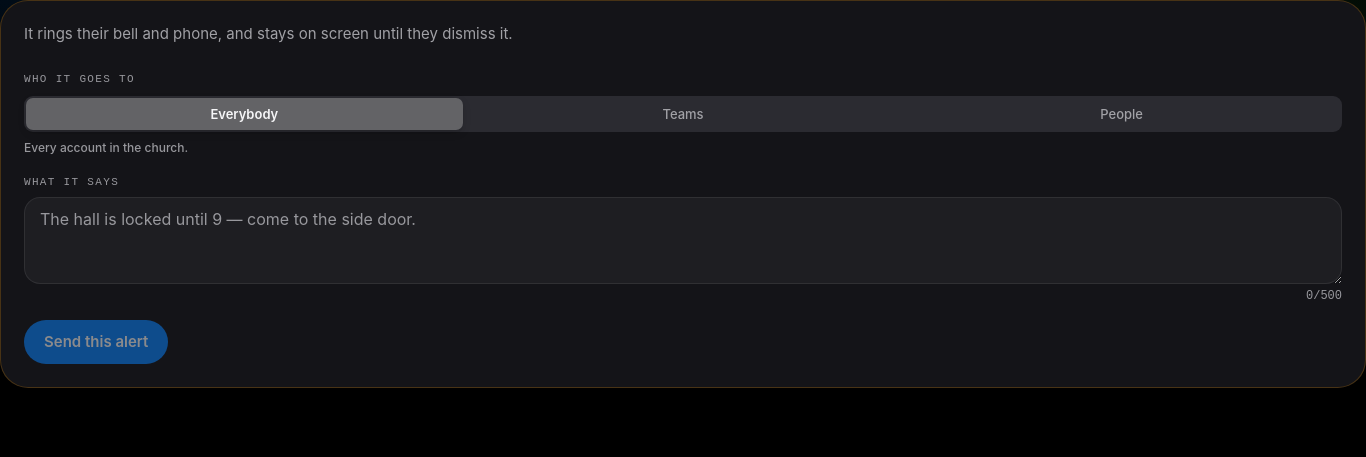
Scenario: SendAlertCard › asks before it interrupts anybody
Type "The hall is locked until 9" into the text box labelled "What it says" at (683, 240), box [24,197,1342,284]
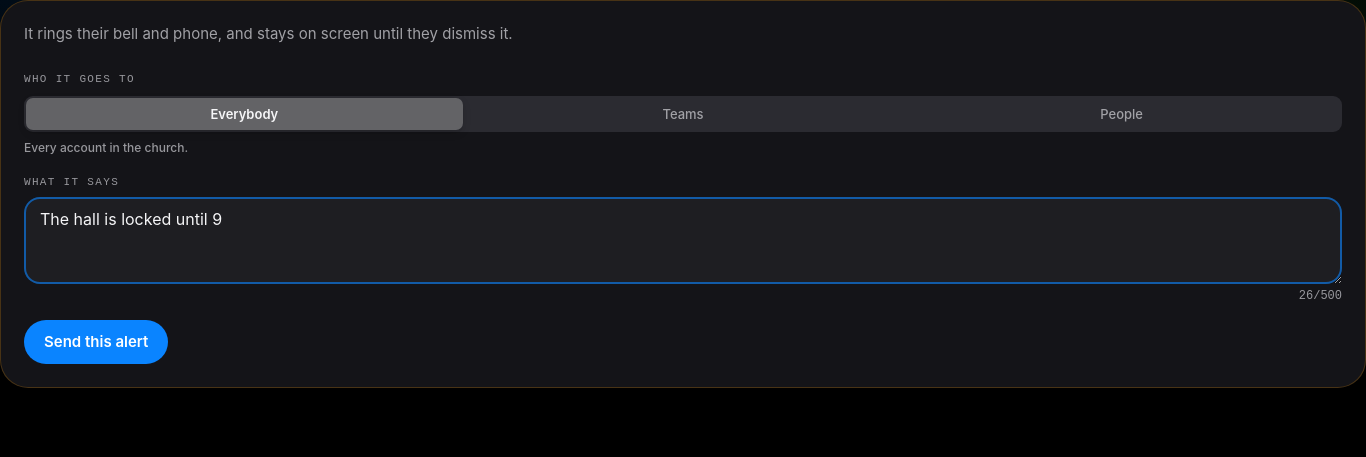
Click the button "Send this alert" at (96, 342), box [24,320,168,364]
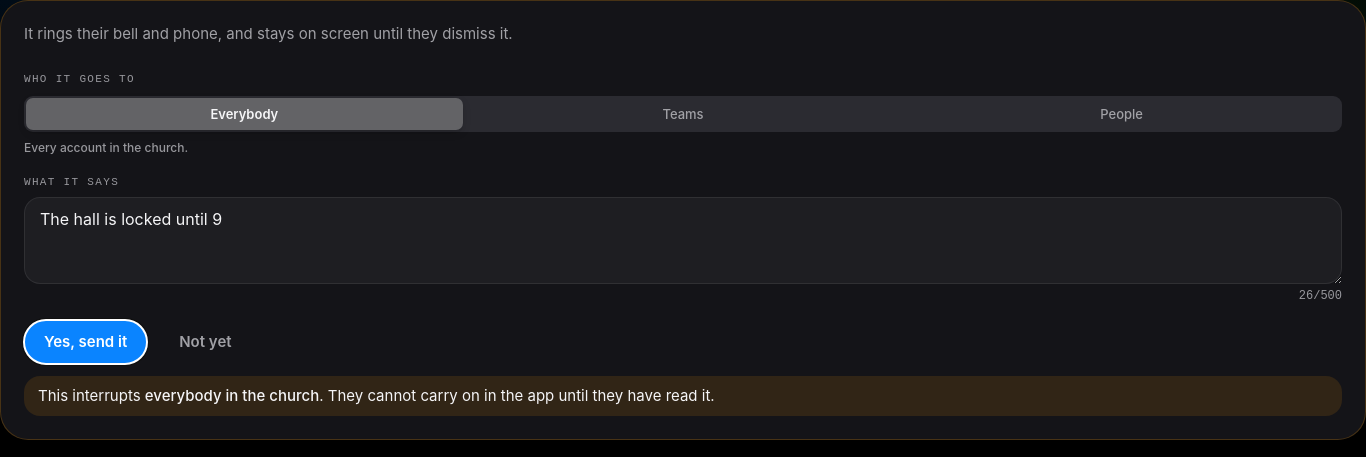
expect the text "everybody in the church" is shown: met, box [145,386,319,405]
